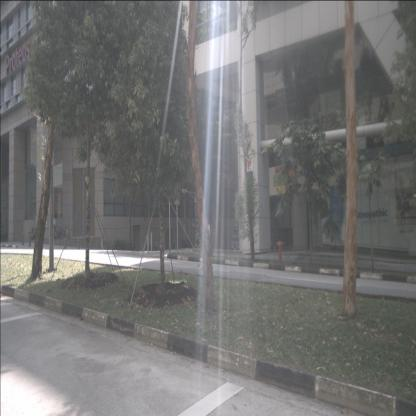vehicle-truck: (231, 228, 258, 253)
